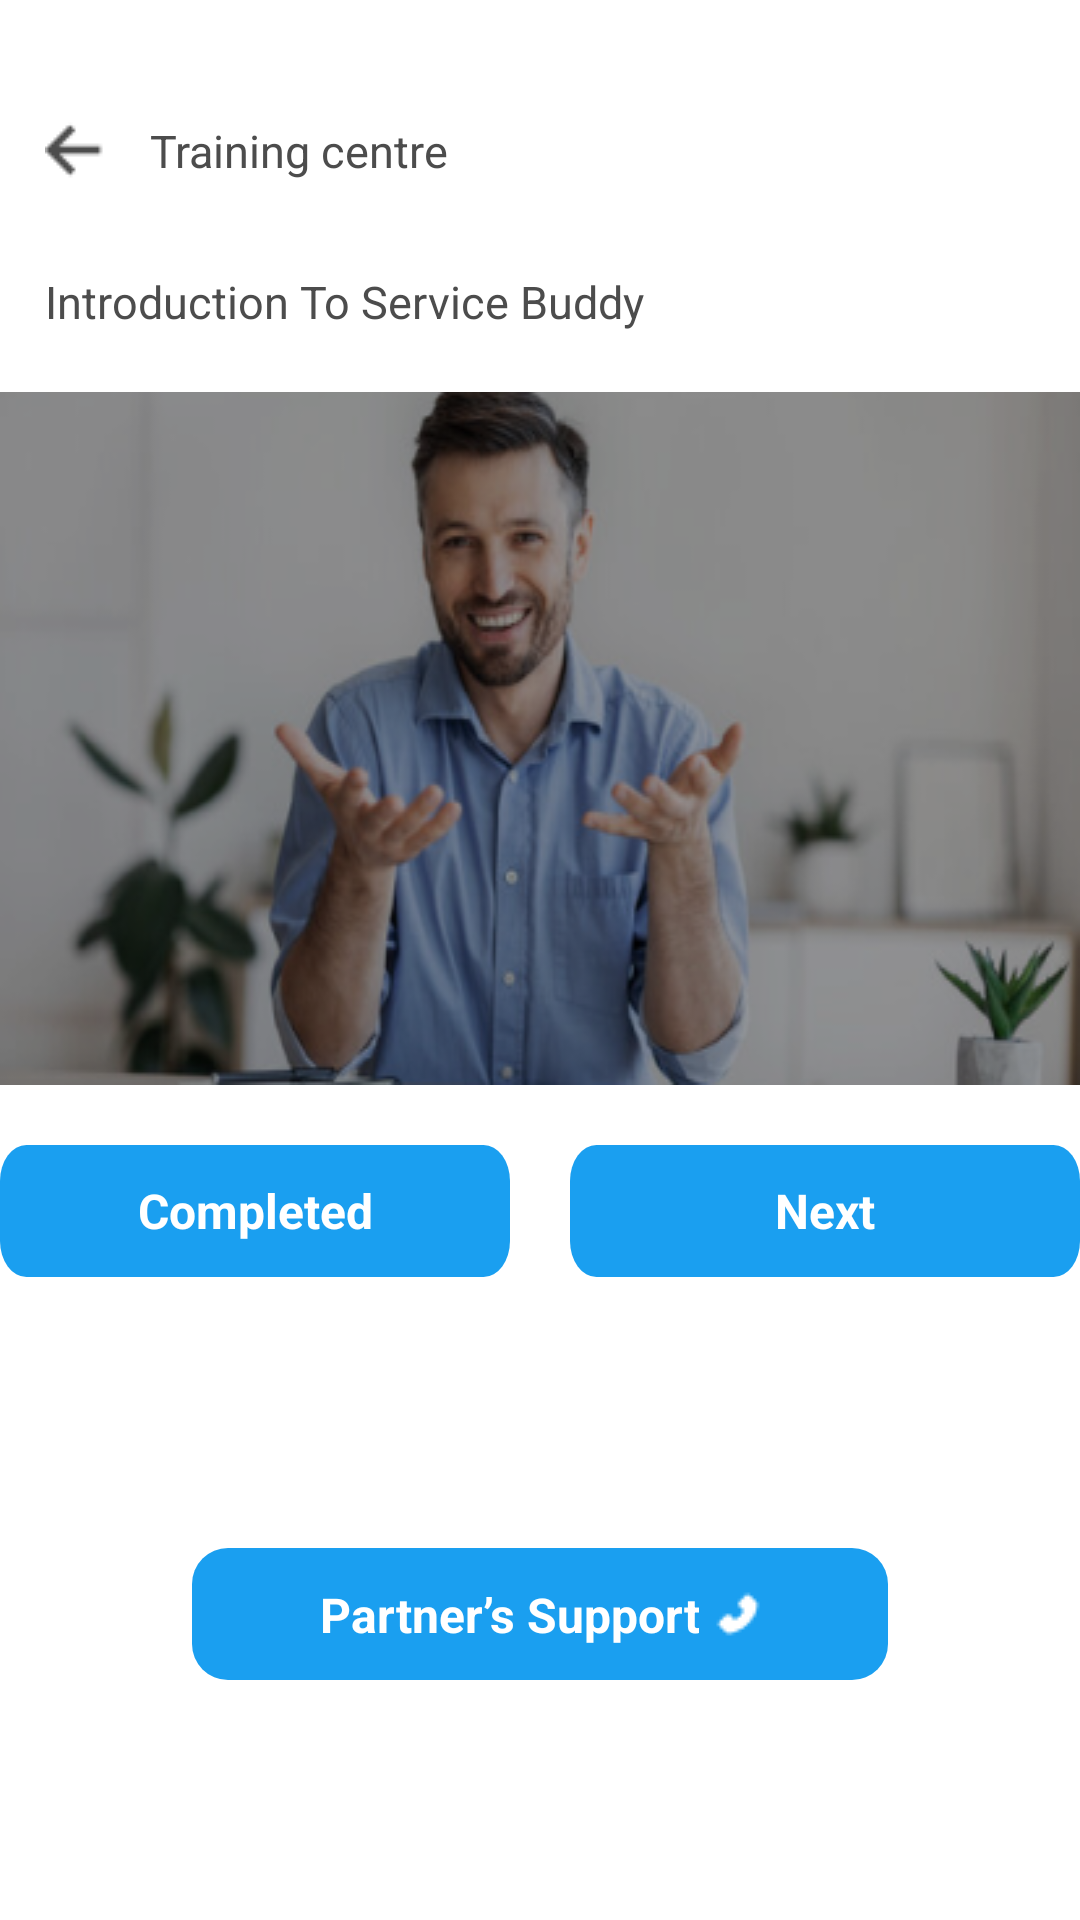

Where to tap for icons on this 1080w x 1920h app screen, as (x,y):
back: (73,150)
